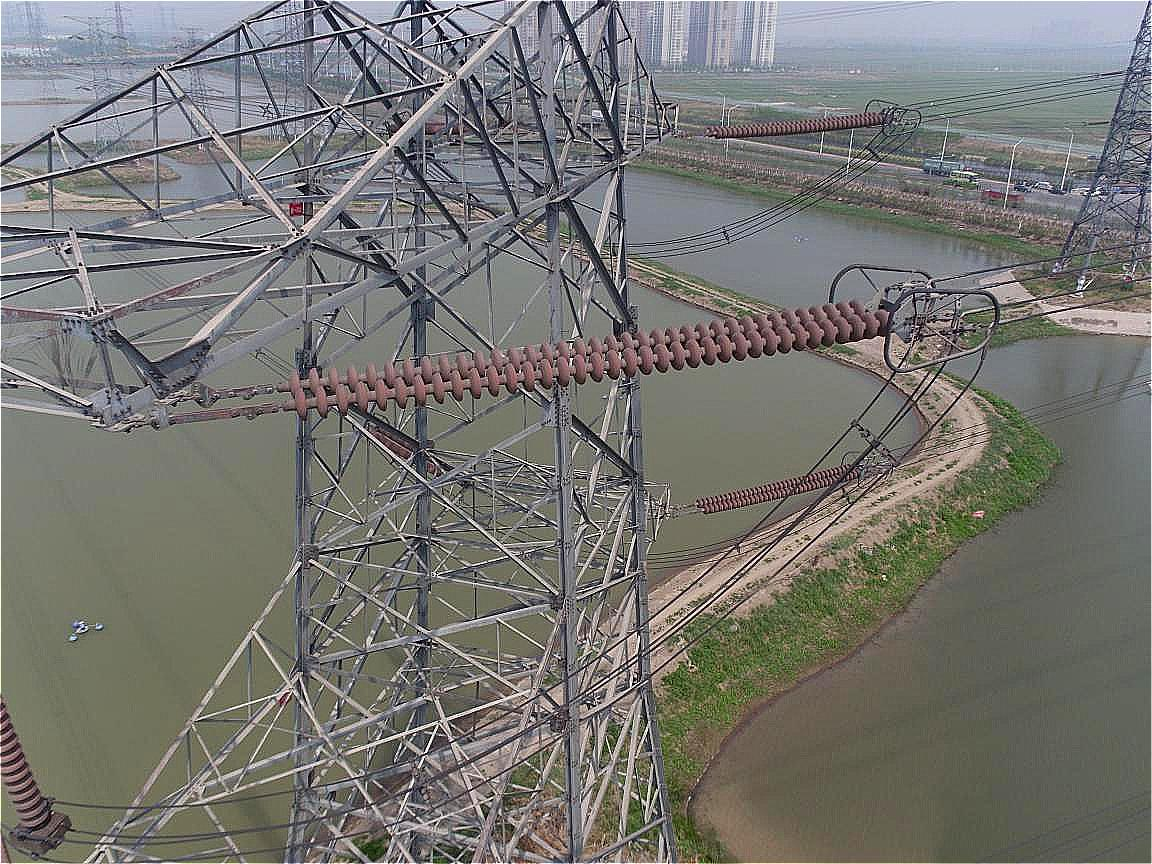insultor1: (280, 298, 906, 428), (692, 456, 881, 533)
